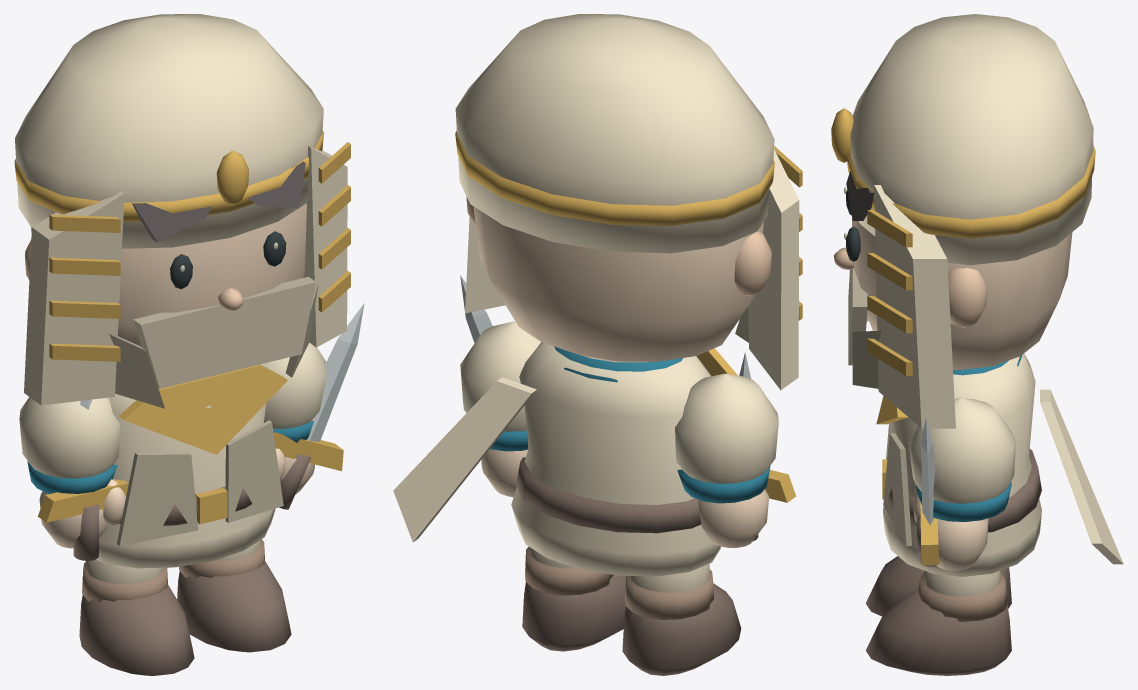
File: assassin.glb
The picture shows the model from 3 angles, left to right: view 1: azimuth 30°, elevation 25°; view 2: azimuth 150°, elevation 25°; view 3: azimuth 270°, elevation 25°; orthographic projection. The views are drawn at different scales.
Parts seen in each view (by area): view 1: Striped nemes crown, Nemes shoulder wing, Soft face mask, Soft cheek head, Short folded tunic, Broad gold collar, Round leather boot, Round leather boot.001, Puff sleeve, Coat fold, Nemes shoulder wing.001, Coat fold.001 (+30 smaller); view 2: Striped nemes crown, Short folded tunic, Soft cheek head, Puff sleeve, Nemes shoulder wing, Long scarf tail, Nemes front band, Round leather boot, Round leather boot.001, Broad leather belt, Puff sleeve.001, Little mitten (+12 smaller); view 3: Striped nemes crown, Nemes shoulder wing.001, Soft cheek head, Short folded tunic, Round leather boot.001, Puff sleeve.001, Nemes front band, Long scarf tail, Little mitten.001, Boot turn cuff.001, Round leather boot, Coat fold.001 (+15 smaller).
Boxes of the visible parts, x1,y1,x2,y2 form: Striped nemes crown: (15,14,323,248); Nemes shoulder wing: (24,191,124,405); Soft face mask: (133,276,316,388); Soft cheek head: (31,203,306,346); Short folded tunic: (96,363,275,568); Broad gold collar: (118,364,287,454); Round leather boot: (79,584,194,675); Round leather boot.001: (177,560,291,652); Puff sleeve: (19,397,119,478); Coat fold: (117,452,198,545); Nemes shoulder wing.001: (303,146,347,347); Coat fold.001: (225,420,283,522); Striped nemes crown: (455,14,774,253); Short folded tunic: (511,342,720,576); Soft cheek head: (473,206,763,362); Puff sleeve: (675,373,778,483); Nemes shoulder wing: (748,149,799,390); Long scarf tail: (393,377,536,542); Nemes front band: (455,131,774,225); Round leather boot: (622,583,741,675); Round leather boot.001: (522,575,625,651); Broad leather belt: (516,457,701,533); Puff sleeve.001: (460,321,541,431); Little mitten: (698,489,768,547); Striped nemes crown: (850,14,1093,265); Nemes shoulder wing.001: (874,185,955,428); Soft cheek head: (852,218,1072,369); Short folded tunic: (883,353,1041,576); Round leather boot.001: (865,589,1011,675); Puff sleeve.001: (908,397,1015,503); Nemes front band: (847,144,1095,238); Long scarf tail: (1040,389,1123,564); Little mitten.001: (936,518,988,570); Boot turn cuff.001: (918,572,1007,621); Round leather boot: (865,556,1011,616); Coat fold.001: (883,433,911,545).
Bounding box in the file's own units: 0.8727 × 1.54 × 0.68.
